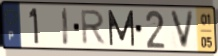1: (28, 7, 41, 46)
2: (145, 8, 168, 51)
I: (61, 6, 70, 48)
M: (106, 9, 137, 48)
R: (80, 9, 108, 47)
V: (168, 9, 196, 51)
